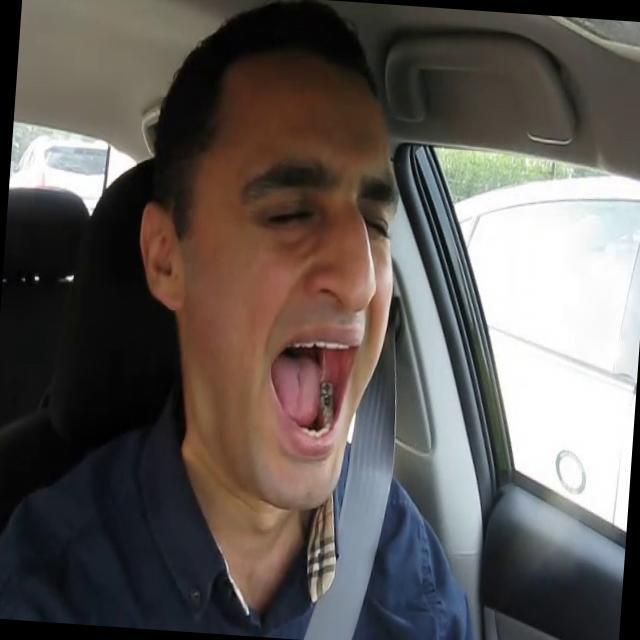open-mouth: (268, 327, 358, 449)
